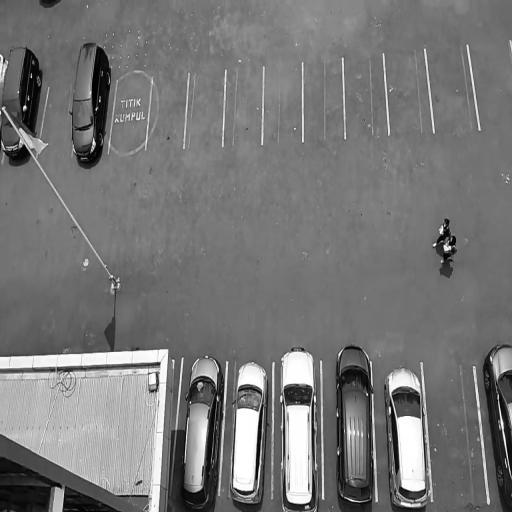Car: (177, 353, 227, 512), (333, 342, 377, 507), (381, 364, 430, 512), (278, 345, 318, 512), (226, 360, 270, 507), (479, 335, 512, 512), (70, 40, 113, 168)
Space Available: (423, 362, 487, 501), (426, 46, 479, 131), (385, 49, 433, 134), (469, 42, 512, 132), (344, 53, 388, 138), (304, 57, 345, 140), (146, 72, 189, 149), (109, 77, 152, 152), (184, 71, 225, 149), (263, 62, 301, 145), (224, 68, 263, 147), (37, 84, 74, 158)
